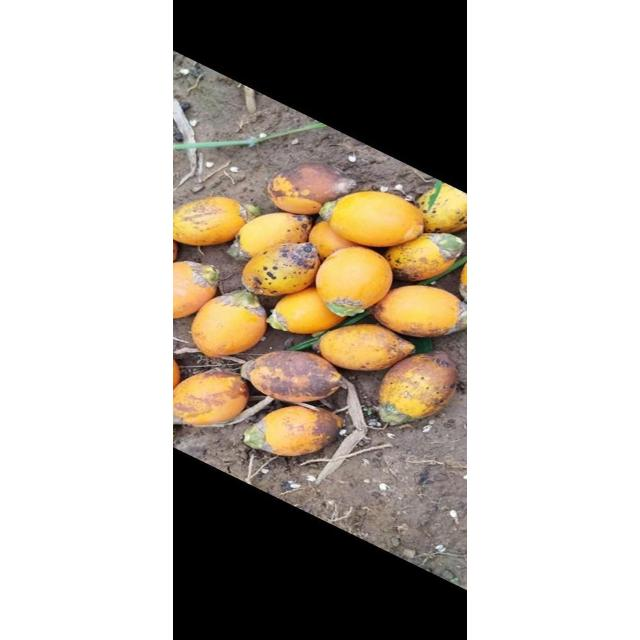good: (376, 352, 460, 422), (315, 247, 393, 315), (242, 351, 344, 402), (328, 192, 424, 246), (190, 290, 268, 356), (372, 286, 466, 338), (243, 406, 344, 454), (267, 163, 357, 214), (318, 324, 414, 370), (241, 242, 321, 296), (174, 370, 250, 426), (382, 233, 466, 281), (173, 198, 251, 246), (234, 213, 314, 259), (270, 288, 346, 334), (174, 261, 220, 321), (416, 182, 466, 234), (308, 220, 364, 260), (173, 352, 181, 393), (242, 203, 260, 219), (173, 423, 179, 441), (174, 239, 178, 263)
